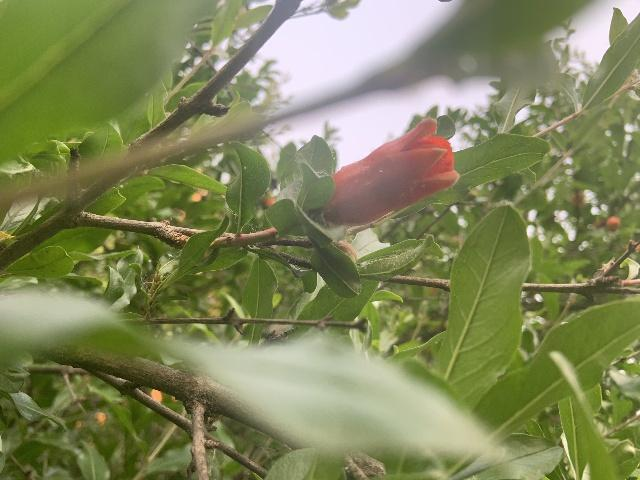flower: (323, 117, 458, 226)
